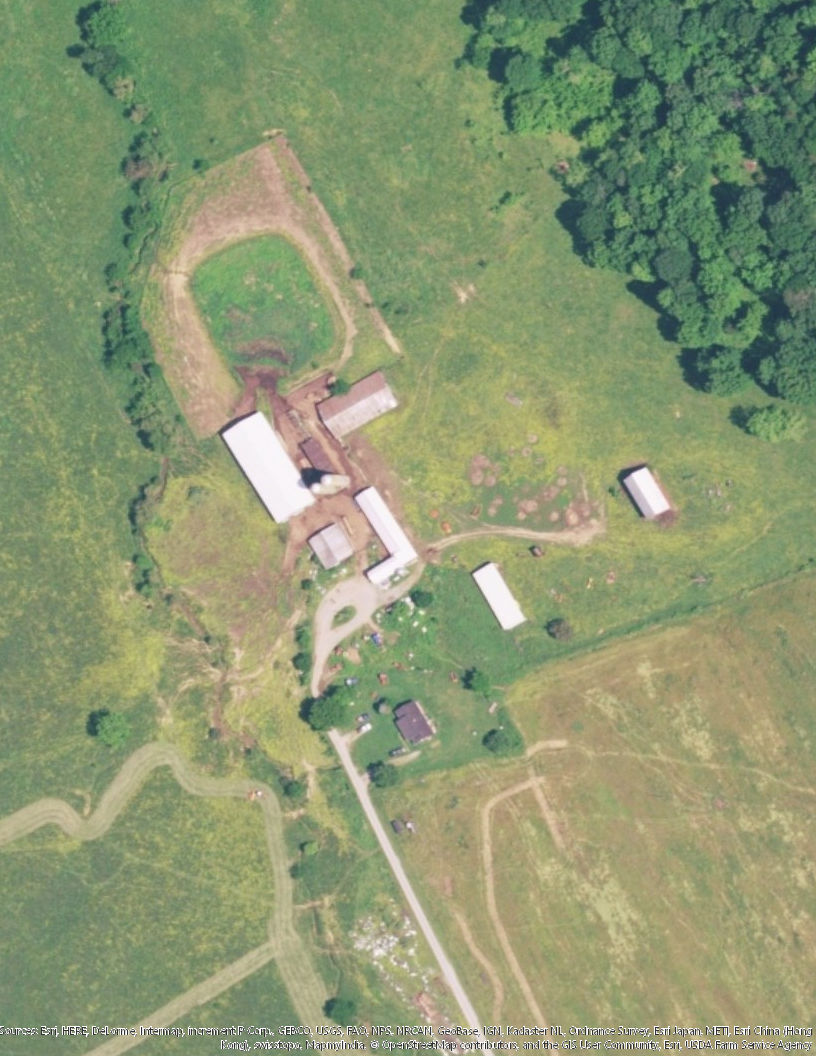cafo: (213, 406, 321, 521), (351, 482, 424, 597), (314, 369, 404, 436), (469, 556, 539, 640), (621, 460, 681, 525), (308, 518, 354, 571)
